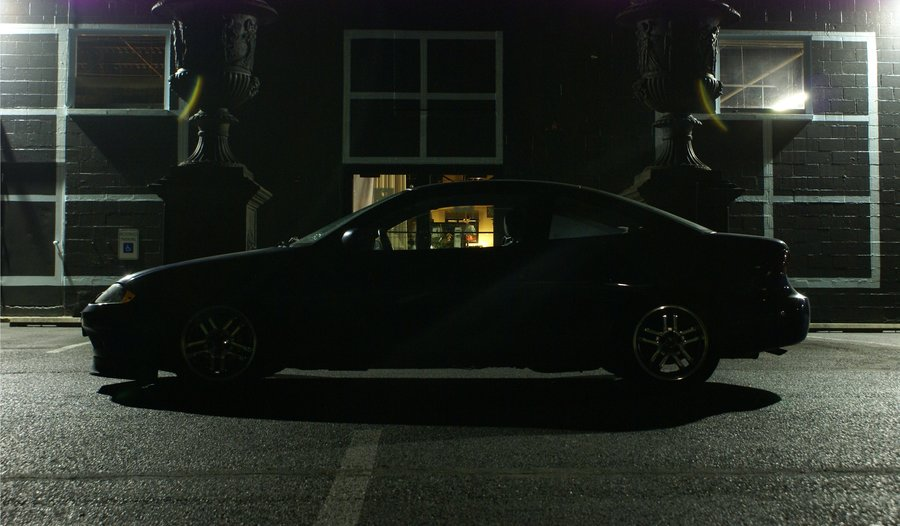car: (64, 165, 839, 402)
